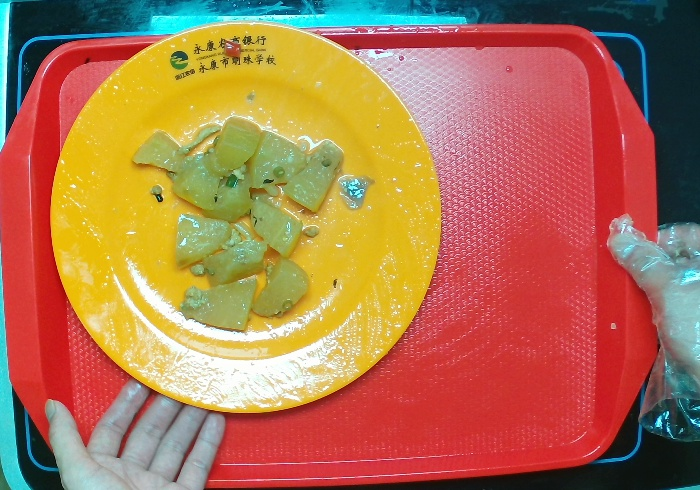YKMZ-Ju_Se_Mian_Pan: (42, 10, 448, 423)
